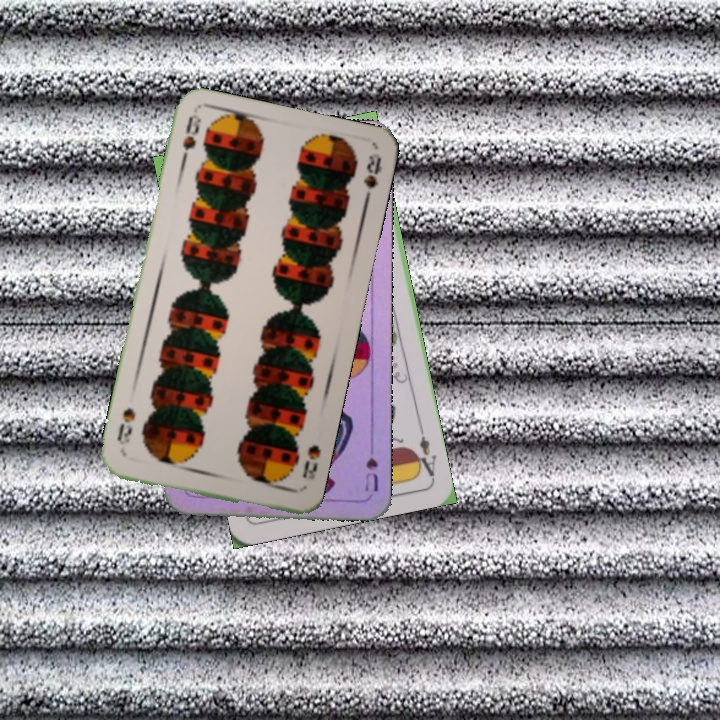EA: (410, 422, 439, 481)
S8: (176, 111, 203, 170), (298, 440, 324, 482)
SU: (361, 435, 381, 494)
